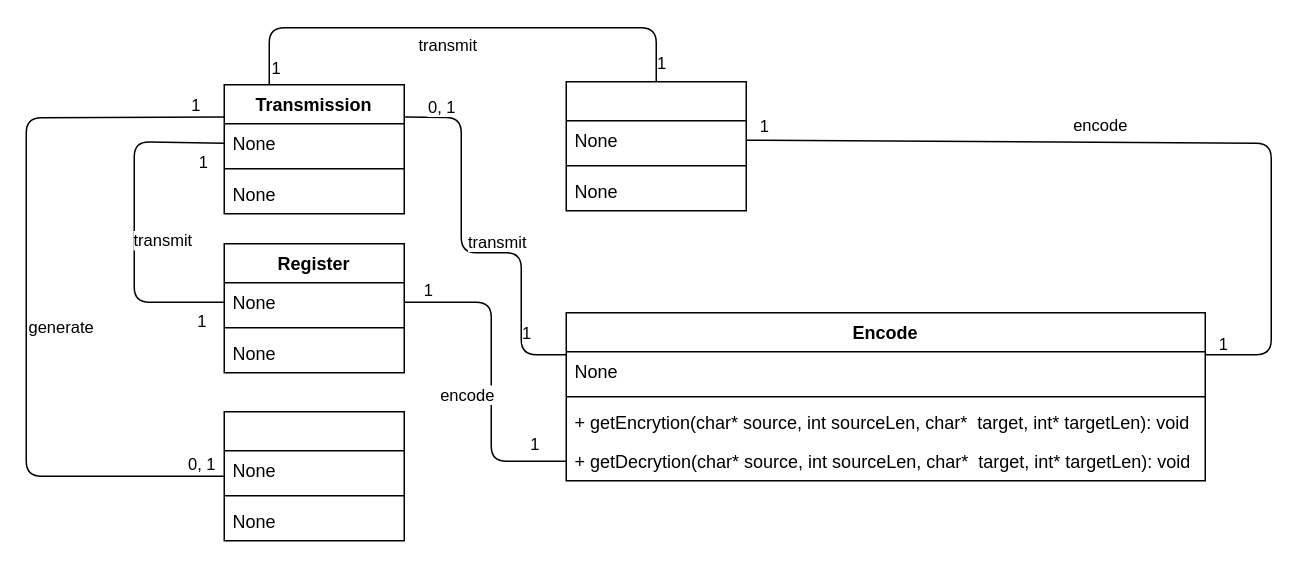
This 1299x570 diagram has some shape labels left out. Here are the shapes that lost their labels. From the top down, the box of each, then its label:
(565, 80, 746, 211): License
(223, 410, 404, 541): FileGenneration
